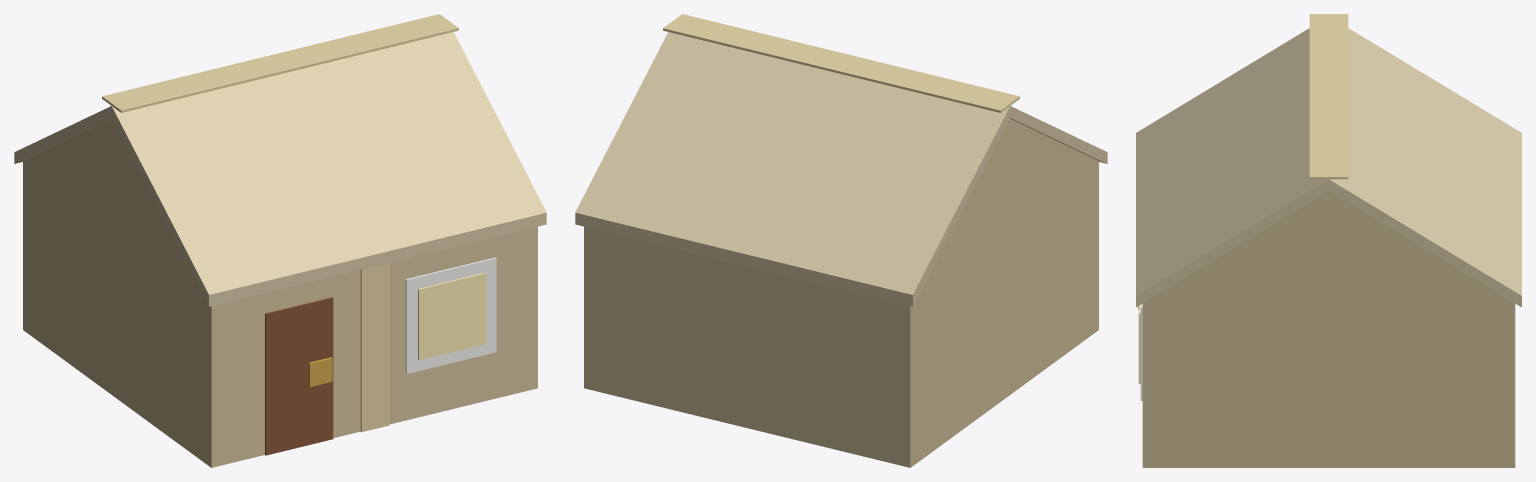
File: shoebox_apartment.glb
3 renders of one model, left to right at view 1: azimuth 30°, elevation 25°; view 2: azimuth 150°, elevation 25°; view 3: azimuth 270°, elevation 25°, orthographic.
Parts seen in each view (by area): view 1: shoebox_apartment_Body; view 2: shoebox_apartment_Body; view 3: shoebox_apartment_Body.
Boxes of the visible parts, x1,y1,x2,y2 form: shoebox_apartment_Body: [14, 14, 546, 467]; shoebox_apartment_Body: [575, 14, 1107, 467]; shoebox_apartment_Body: [1136, 14, 1521, 467].
Size of the model in its own units: 0.6 by 0.504 by 0.6.
